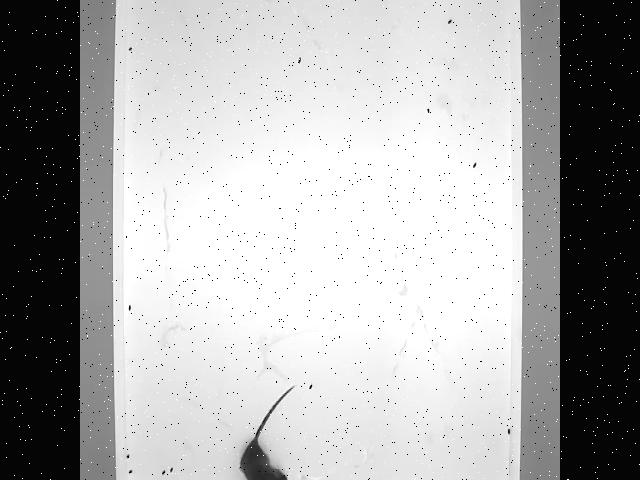Tikus: (237, 384, 295, 480)
